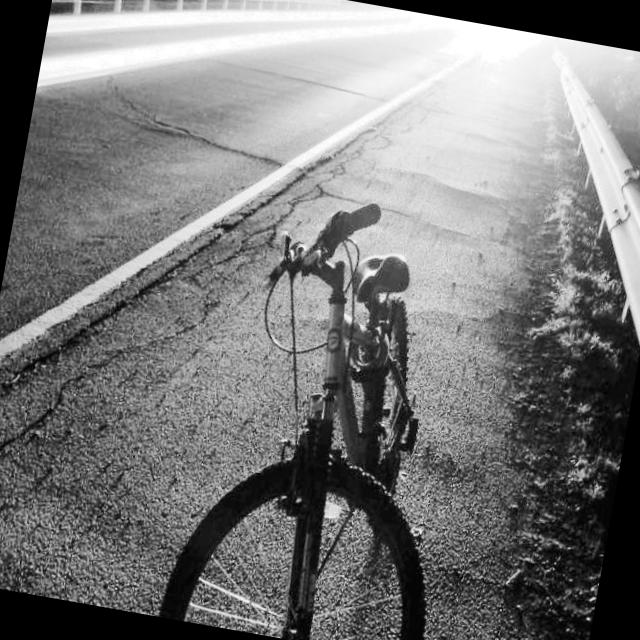Bicycle: (152, 175, 545, 640)
